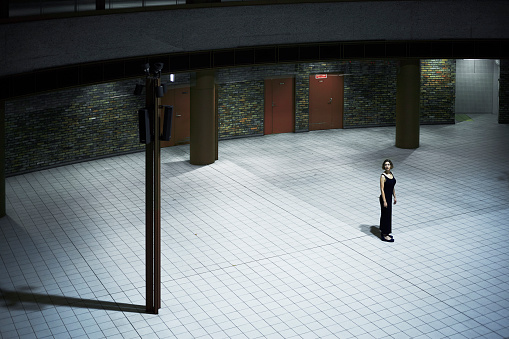em pe: (367, 145, 394, 244)
